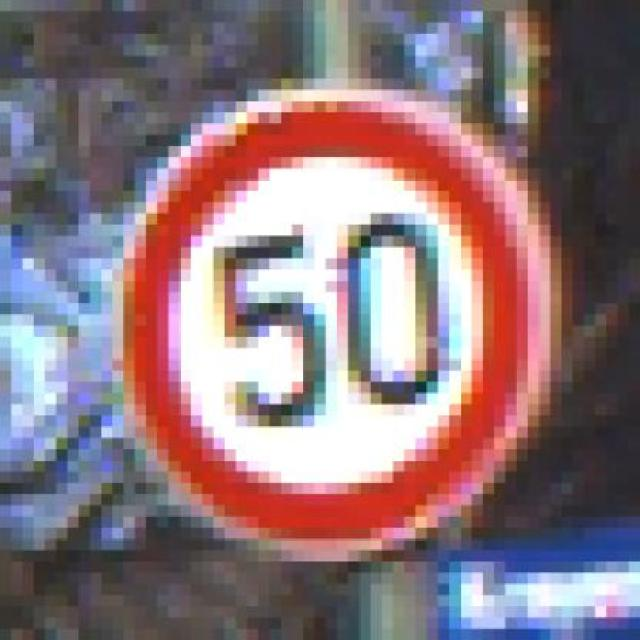50 mph speed limit: (88, 58, 594, 585)
